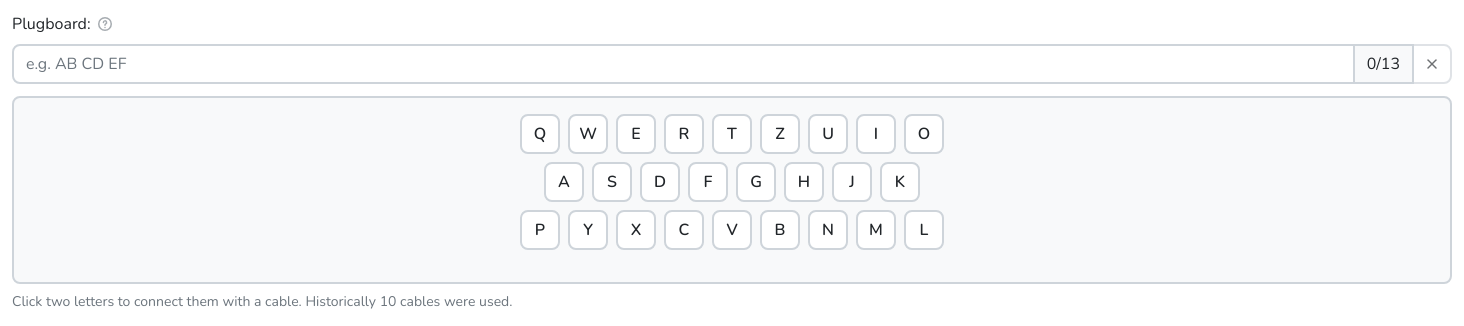
Test: Plugboard text control › replaces the draft when the store changes while the field is focused
Type "ab" into the field labelled "Plugboard:".
click(683, 64); type("ab")  # box [12,44,1355,84]
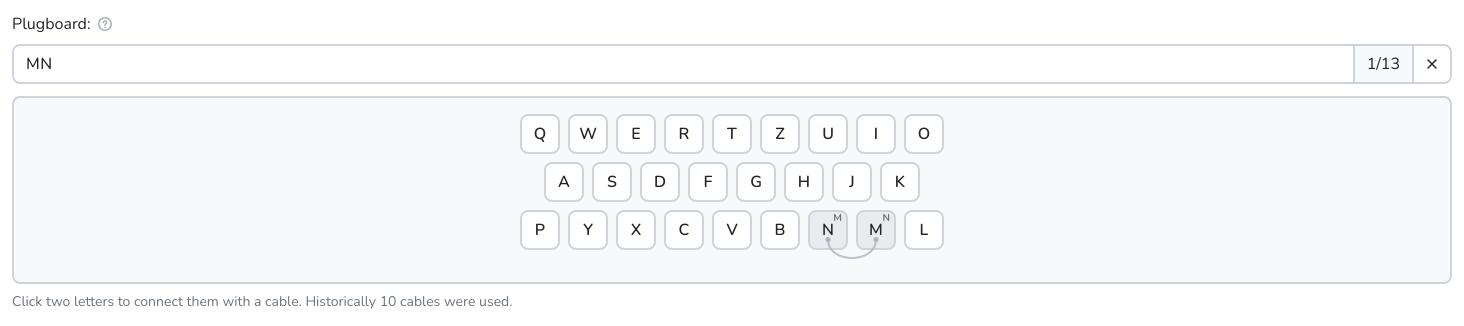
Check: the field labelled "Plugboard:" holds "MN", box [12,44,1355,84]
